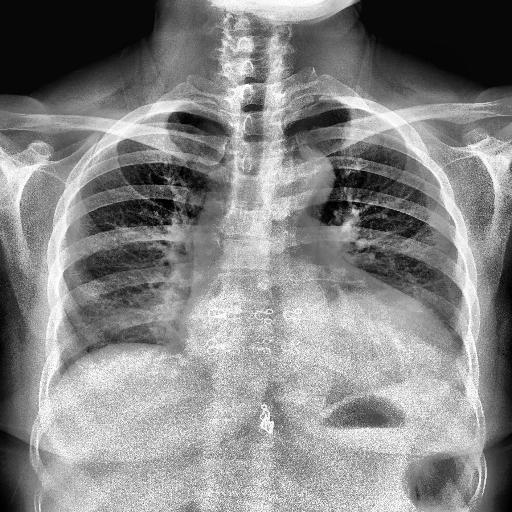0- Aortic enlargement: (260, 144, 334, 214), (264, 144, 337, 214), (270, 150, 338, 216)
3- Cardiomegaly: (178, 286, 456, 380), (177, 290, 461, 366), (178, 311, 457, 382)
